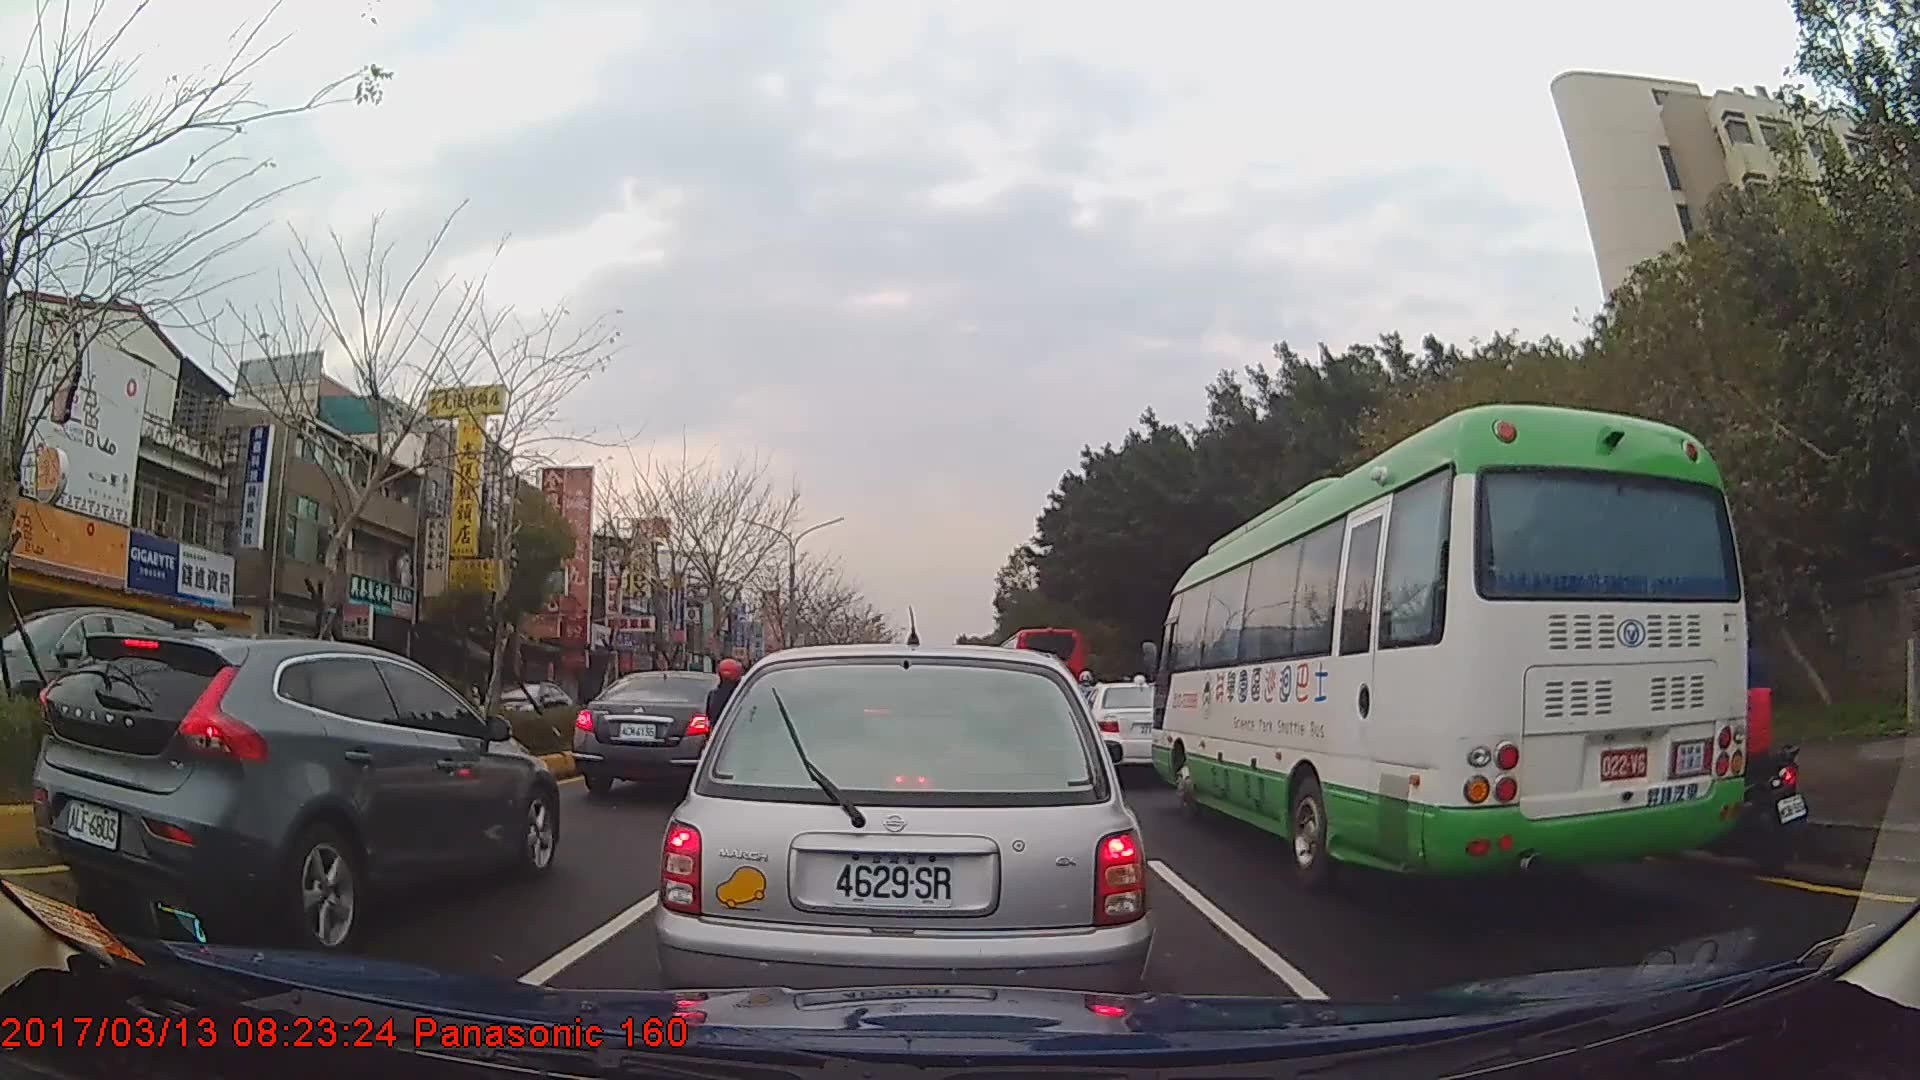rider: (1656, 610, 1811, 875), (701, 658, 768, 828)
vehicle: (1151, 403, 1748, 893), (651, 641, 1152, 1039), (29, 633, 560, 951), (0, 596, 192, 801), (571, 670, 754, 801), (1071, 681, 1187, 786), (993, 623, 1086, 725), (487, 681, 568, 730)
